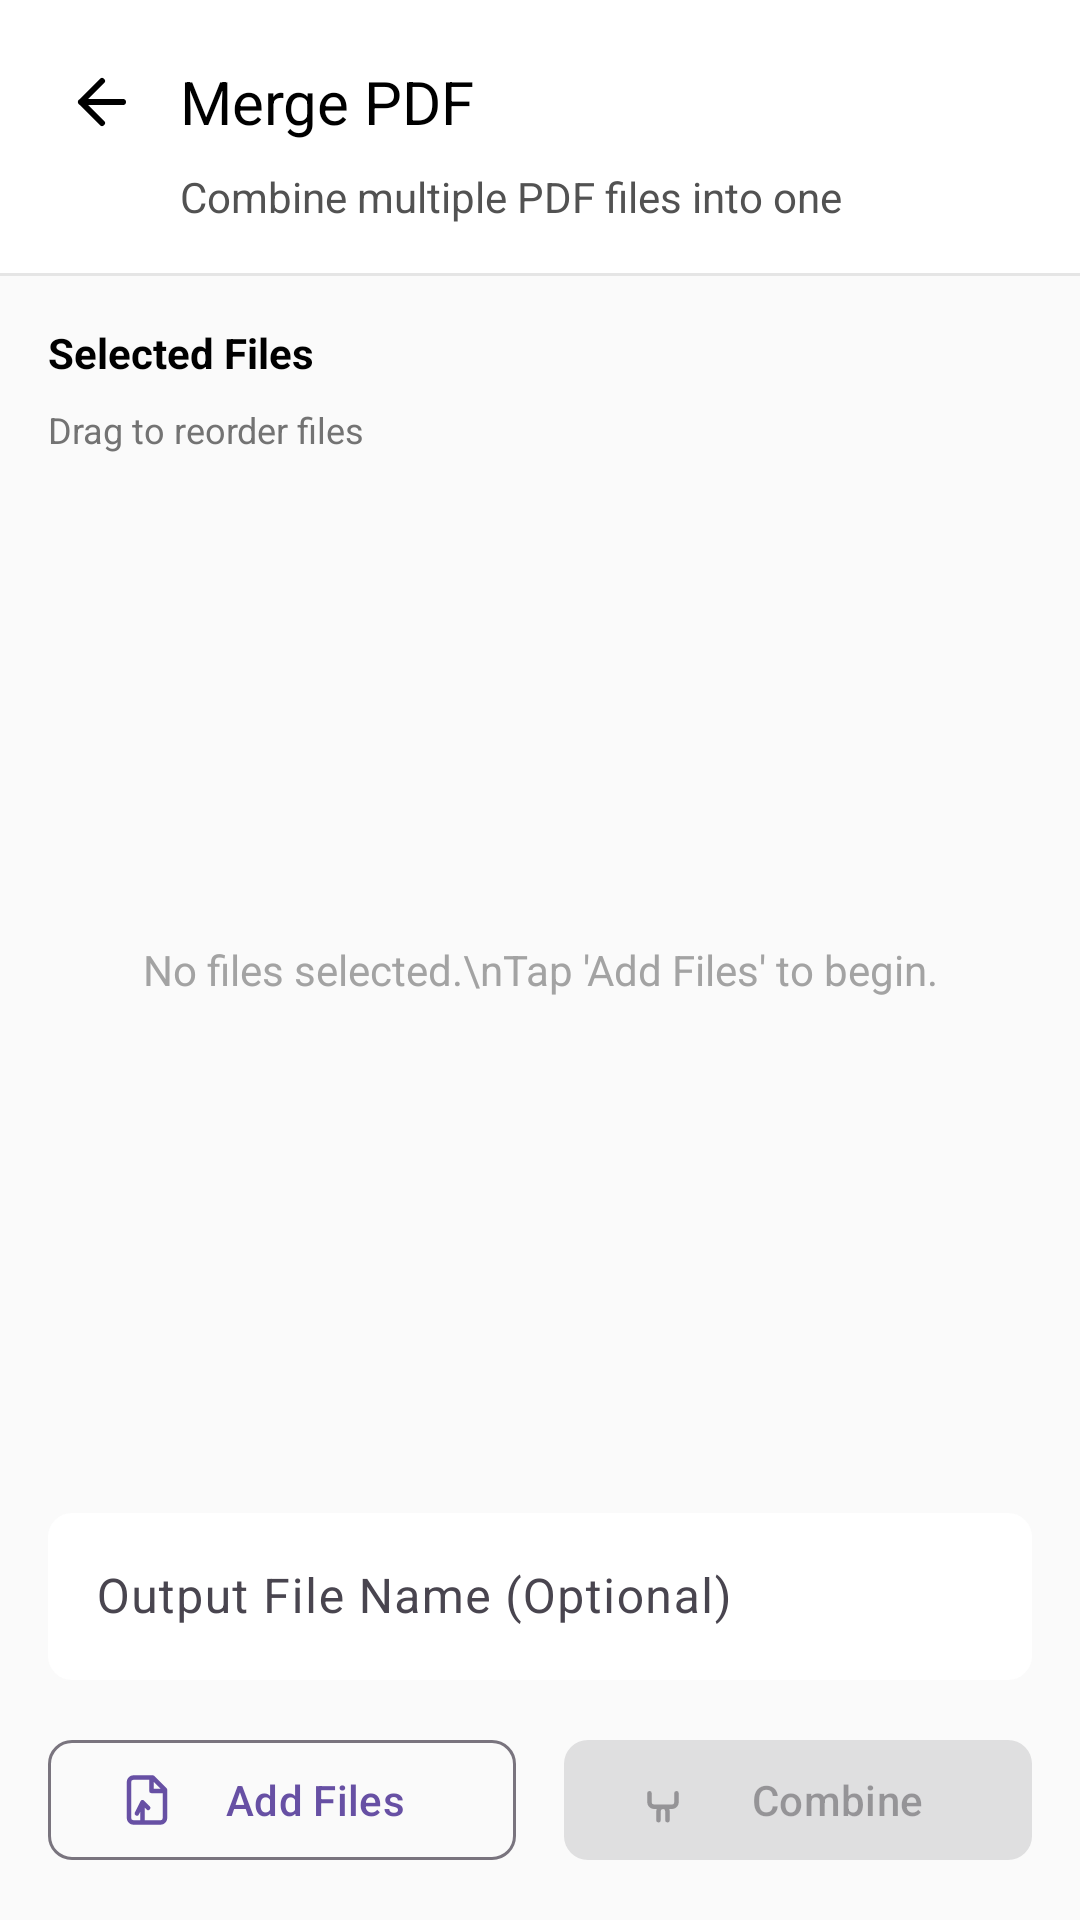

Where icons sit on this 1080px x 1920px app screen, as (x1, y1, x2, y2):
arrow left: (78, 78, 126, 126)
